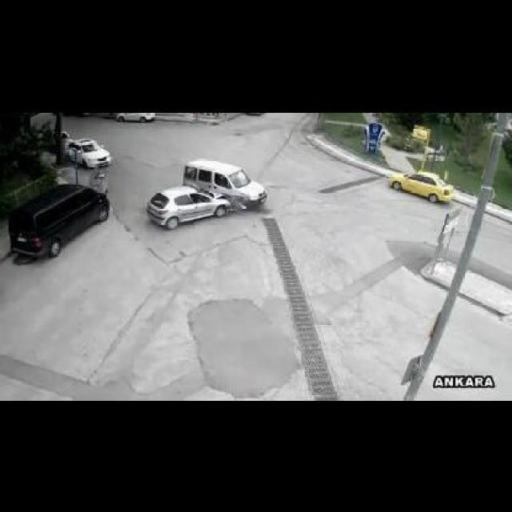小汽车: (12, 180, 112, 262), (391, 170, 455, 206), (68, 139, 111, 170)
小汽车撞小汽车: (152, 162, 266, 224)
